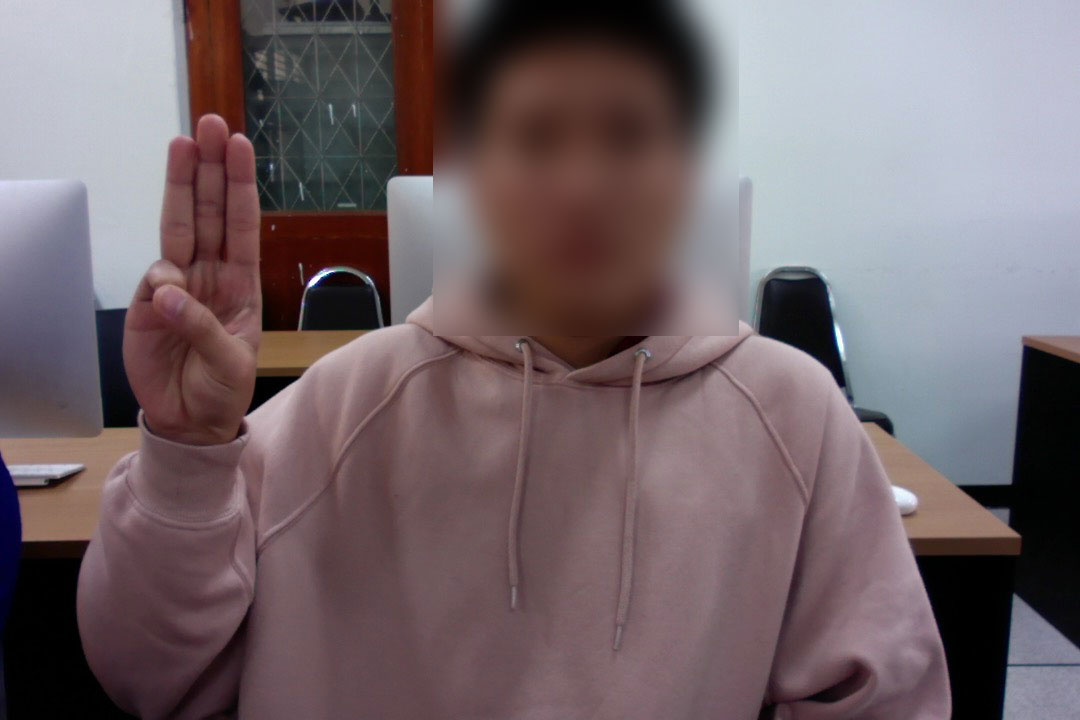wor: (121, 107, 265, 453)
